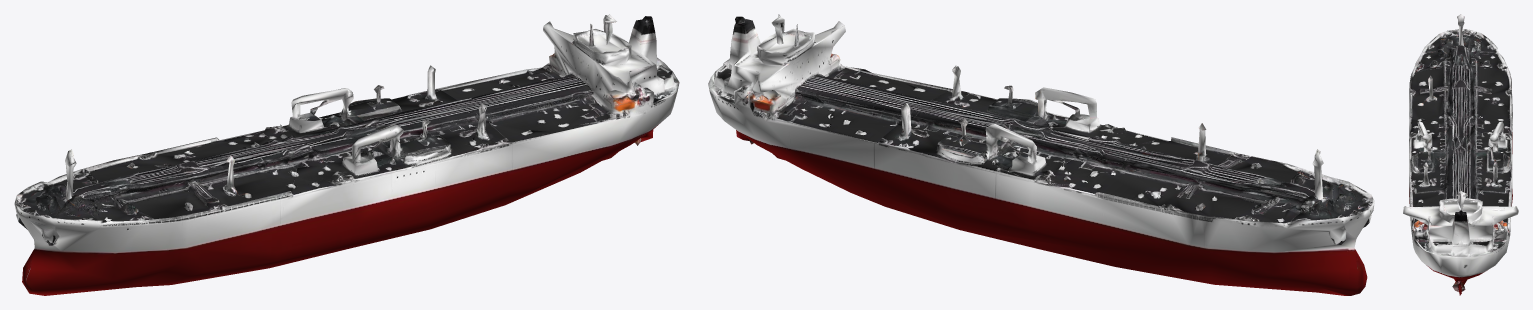
The model's file is vlcc-tanker-remesh-3p5k-web-v106.glb.
3 renders of one model, left to right at view 1: azimuth 30°, elevation 25°; view 2: azimuth 150°, elevation 25°; view 3: azimuth 270°, elevation 25°, orthographic. The views are drawn at different scales.
Visible parts, largest first — view 1: Mesh1.0; view 2: Mesh1.0; view 3: Mesh1.0.
Part boxes in pixels (box(x1,y1,x2,y2)): Mesh1.0: box(14, 14, 679, 295); Mesh1.0: box(708, 14, 1374, 295); Mesh1.0: box(1403, 14, 1518, 295).
Bounding box in the file's own units: 1.9 × 0.4066 × 0.4291.
1 material, 1 textured.
